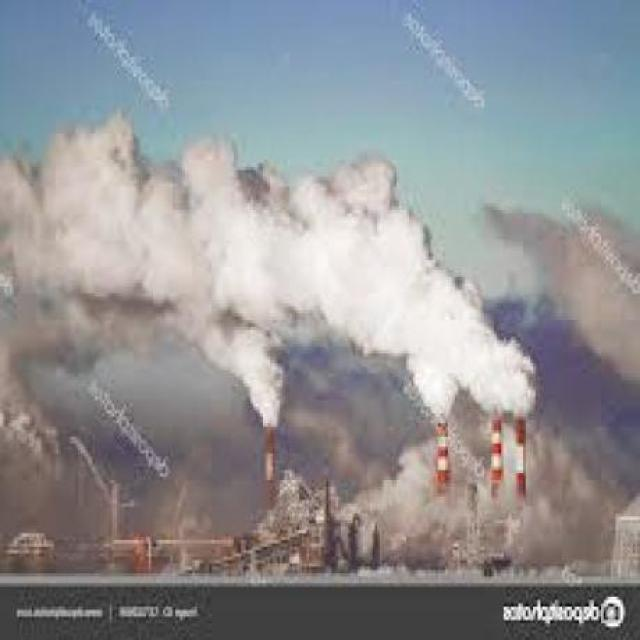Smoke: (0, 119, 551, 438), (377, 450, 590, 554), (575, 233, 640, 556), (0, 443, 234, 520)
